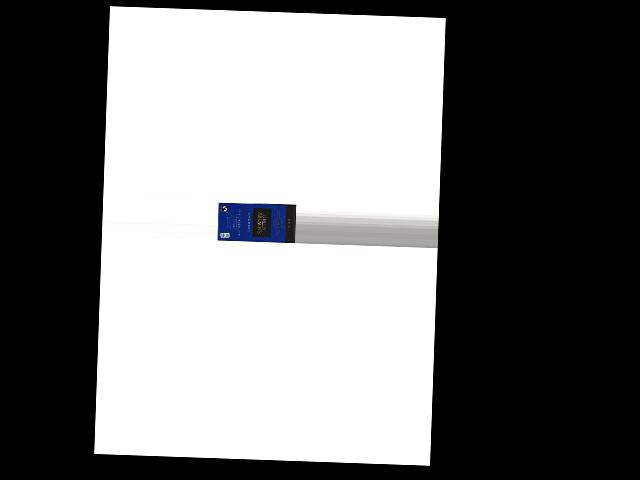chocolate: (218, 201, 296, 244)
